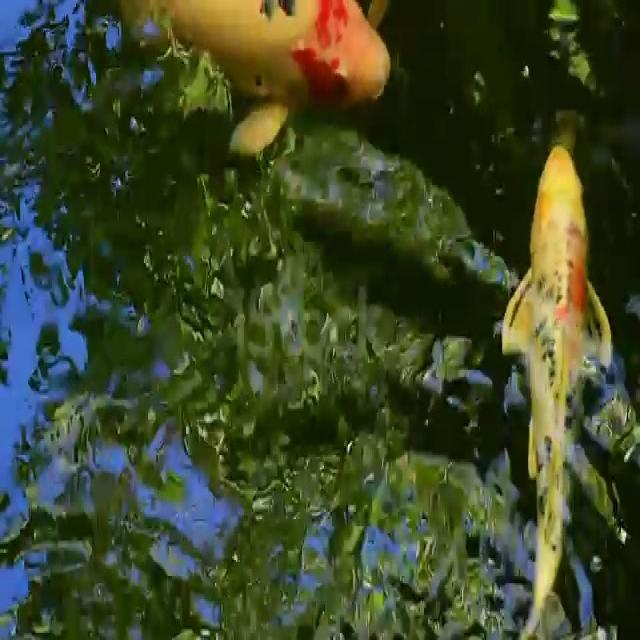fish: (473, 106, 622, 640), (110, 0, 393, 130)
